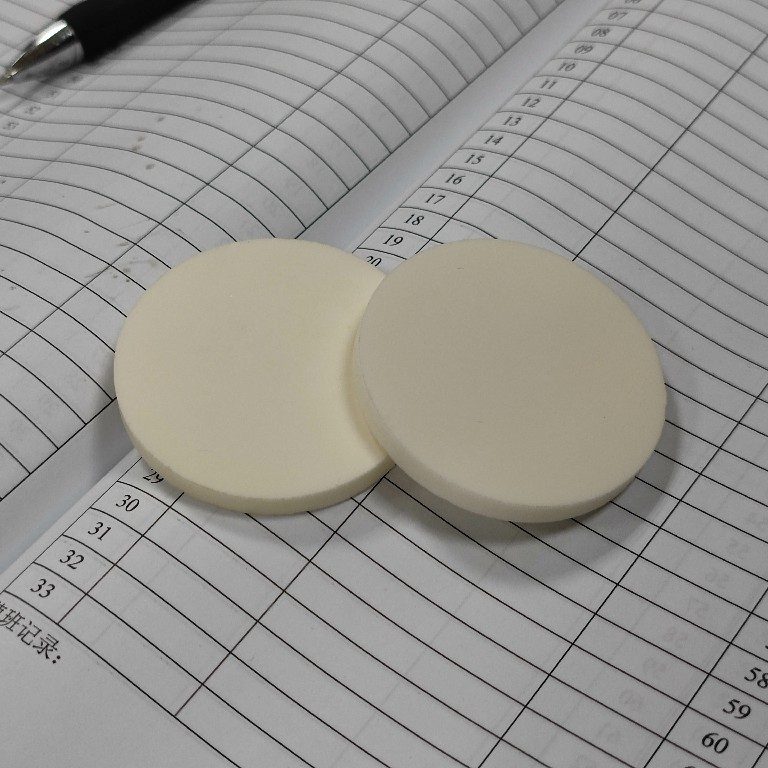ceramics: (351, 241, 669, 535), (108, 230, 424, 517)
